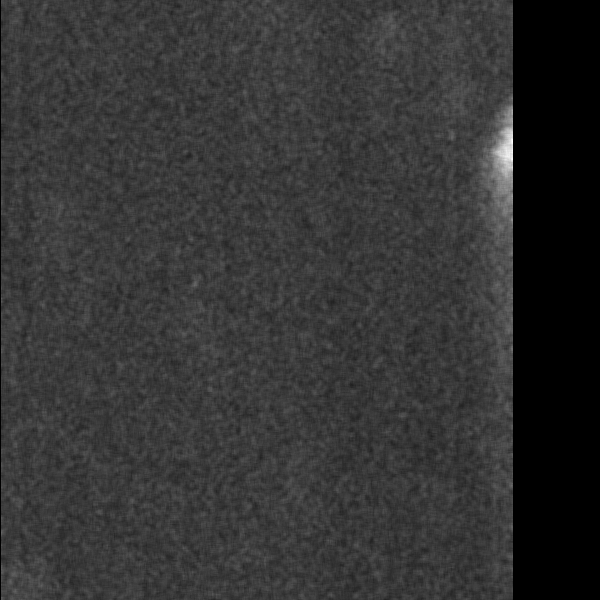spark: (495, 98, 519, 306)
